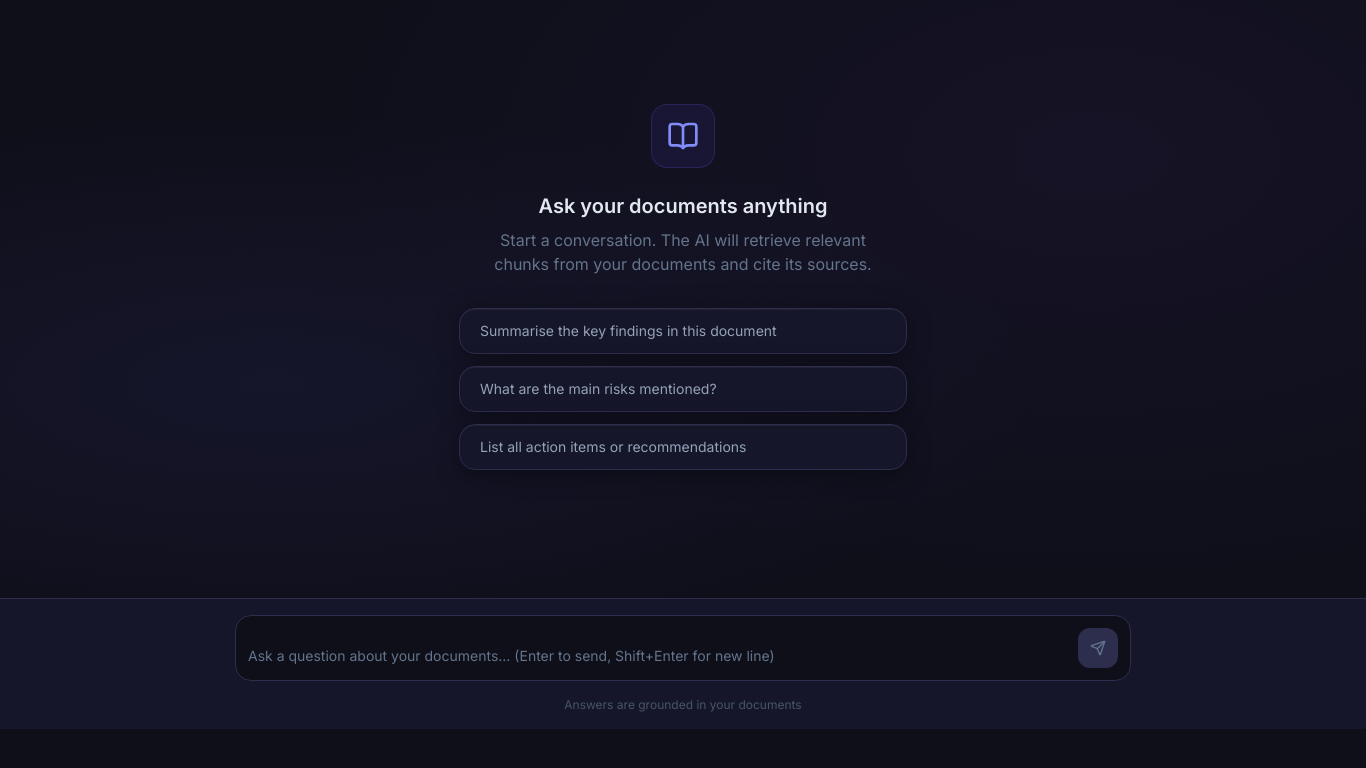
Test case: ChatPanel streaming (Phase F) › a 401 on the stream path surfaces a session-expired error (axios interceptor cannot catch fetch)
Step 1. Replace the text in the text box labelled "Ask a question" with "Hi?" → (657, 657), box [248,645,1066,668]
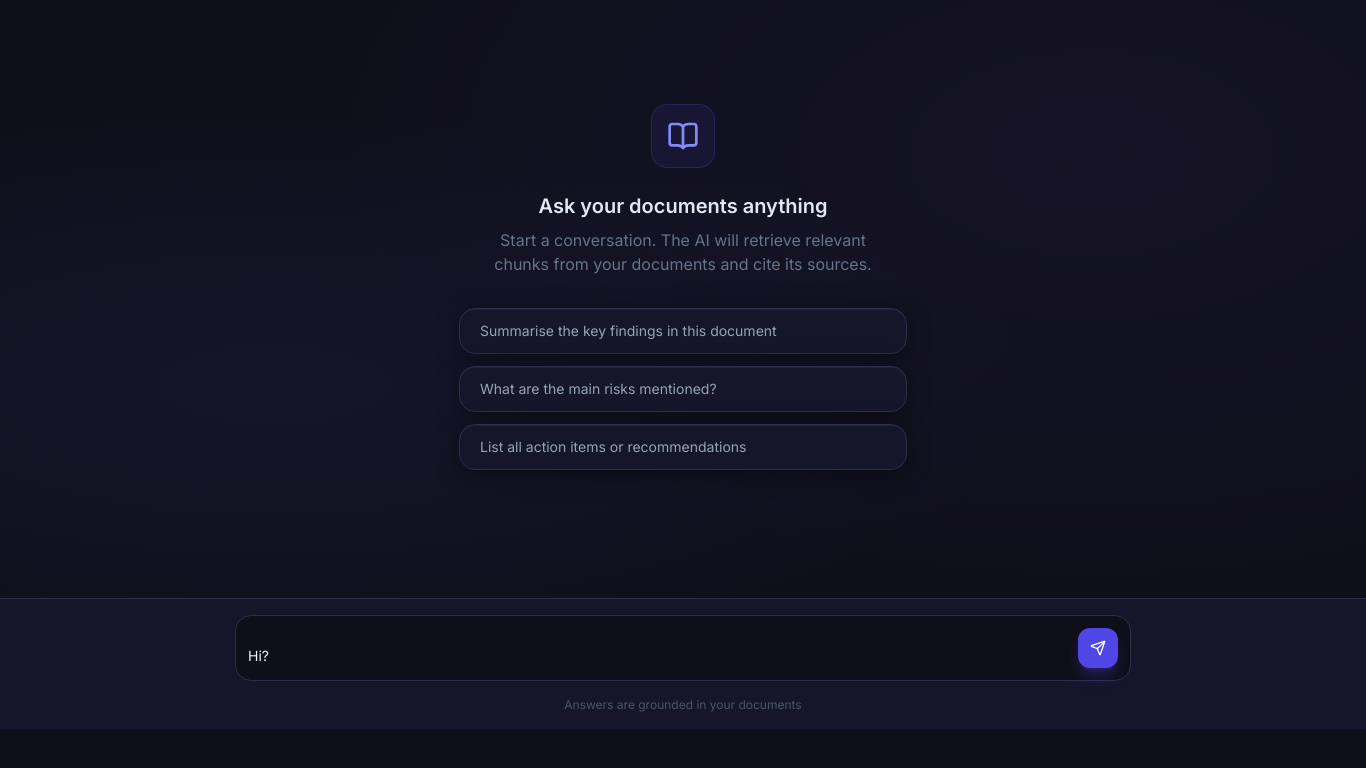
Step 2. Click the button named "Send message" → (1098, 648), box [1078,628,1118,668]
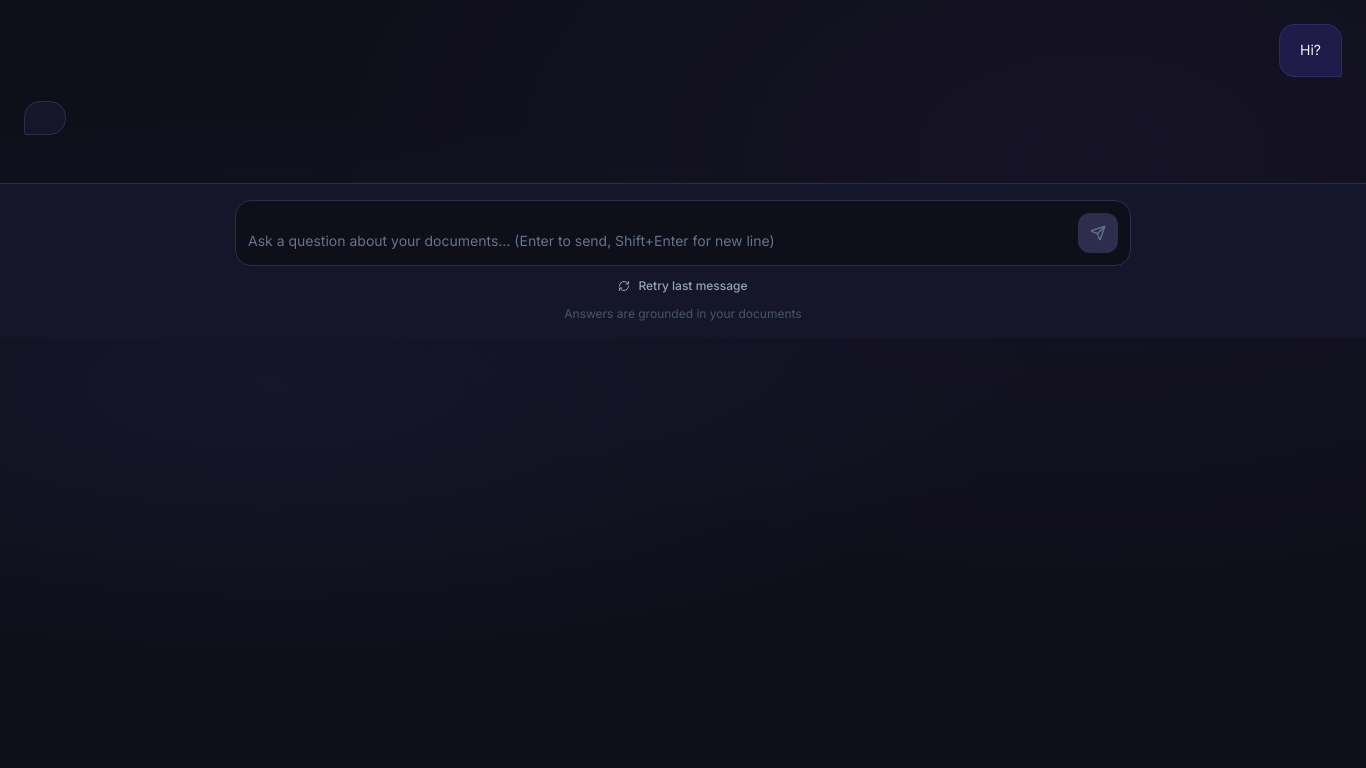
Expected: the button "Retry last message" is shown, [602,274,764,298]
